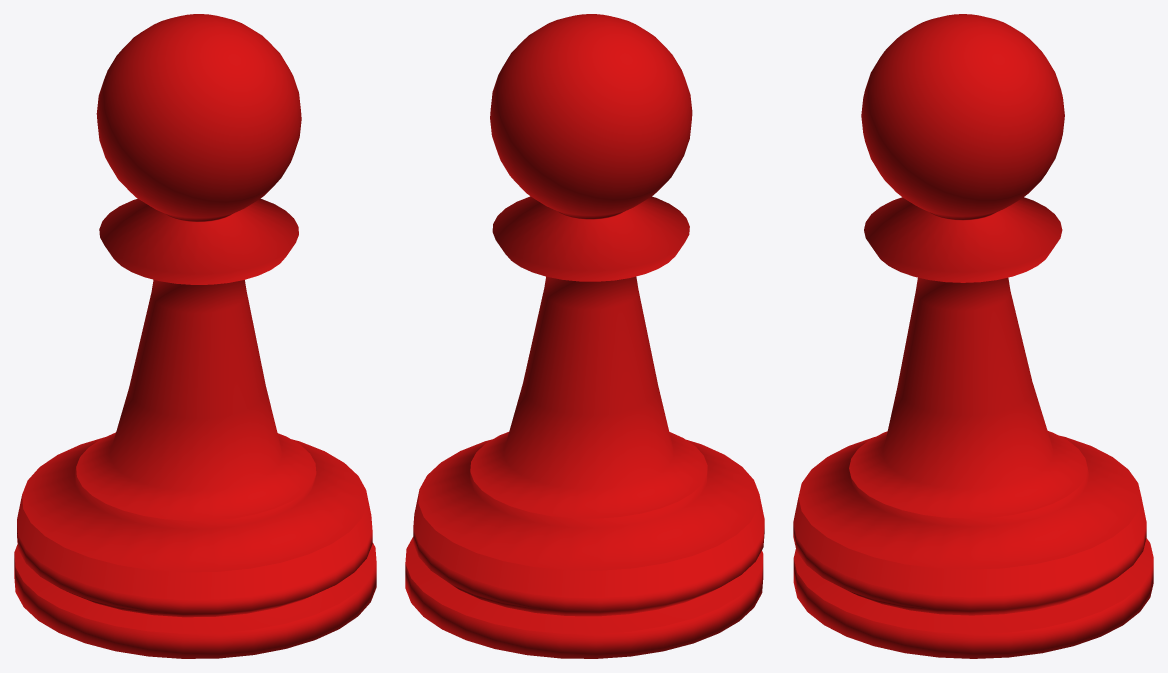
The model's file is red1.glb.
3 renders of one model, left to right at view 1: azimuth 30°, elevation 25°; view 2: azimuth 150°, elevation 25°; view 3: azimuth 270°, elevation 25°, orthographic.
Visible parts, largest first — view 1: Sphere_0; view 2: Sphere_0; view 3: Sphere_0.
Boxes of the visible parts, x1,y1,x2,y2 form: Sphere_0: (14, 14, 376, 658); Sphere_0: (405, 14, 764, 658); Sphere_0: (793, 14, 1153, 658).
Bounding box in the file's own units: 2.83 × 4.84 × 2.83.
